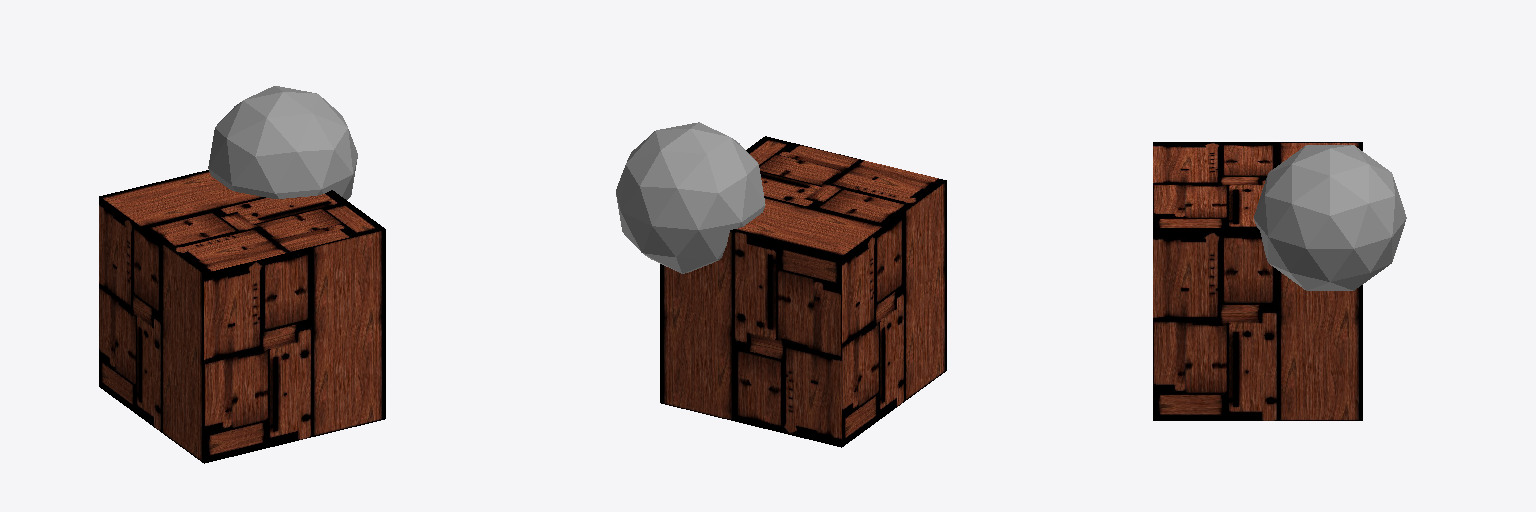
The picture shows the model from 3 angles: view 1: azimuth 30°, elevation 25°; view 2: azimuth 150°, elevation 25°; view 3: azimuth 270°, elevation 25°; orthographic projection.
Visible parts, largest first — view 1: Icosphere_Icosphere.001; view 2: Icosphere_Icosphere.001; view 3: Icosphere_Icosphere.001.
Boxes of the visible parts, x1=… form: Icosphere_Icosphere.001: x1=99, y1=86, x2=385, y2=463; Icosphere_Icosphere.001: x1=616, y1=122, x2=946, y2=447; Icosphere_Icosphere.001: x1=1153, y1=142, x2=1406, y2=420.
Bounding box in the file's own units: 0.3524 × 0.3879 × 0.3354.
2 materials, 1 textured.